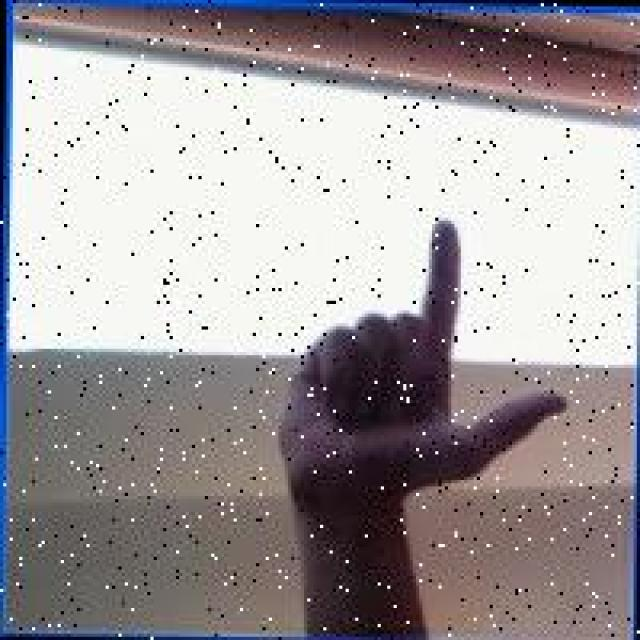L: (277, 212, 574, 498)
